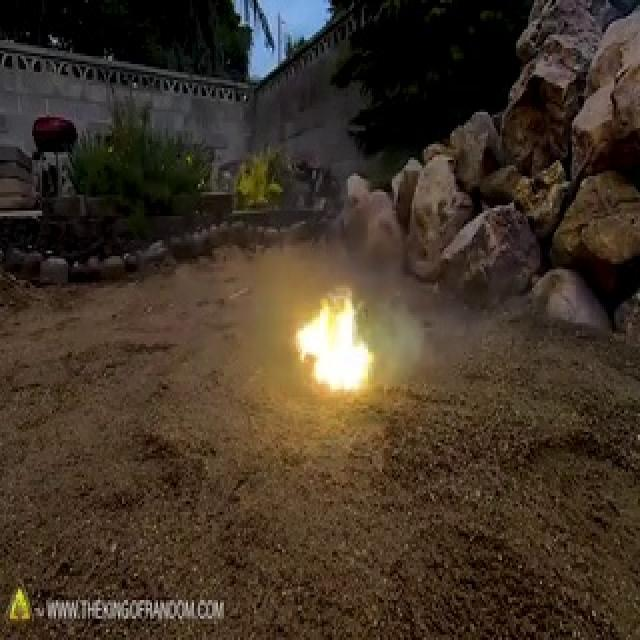fire: (286, 241, 368, 396)
